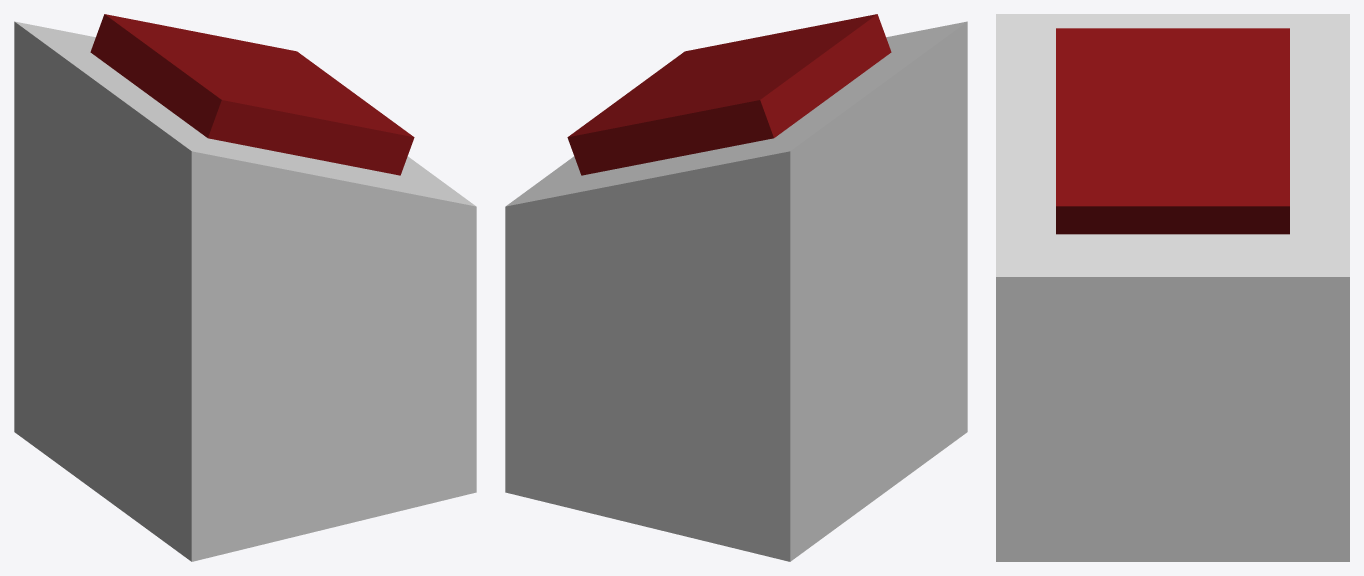
Rendered from Button.fbx.
3 renders of one model, left to right at view 1: azimuth 30°, elevation 25°; view 2: azimuth 150°, elevation 25°; view 3: azimuth 270°, elevation 25°, orthographic.
Visible parts, largest first — view 1: Cube; view 2: Cube; view 3: Cube.
Boxes of the visible parts, bbox=[...] form: Cube: bbox=[14, 14, 476, 561]; Cube: bbox=[505, 14, 967, 561]; Cube: bbox=[996, 14, 1349, 561].
Size of the model in its own units: 145 by 207 by 157.
